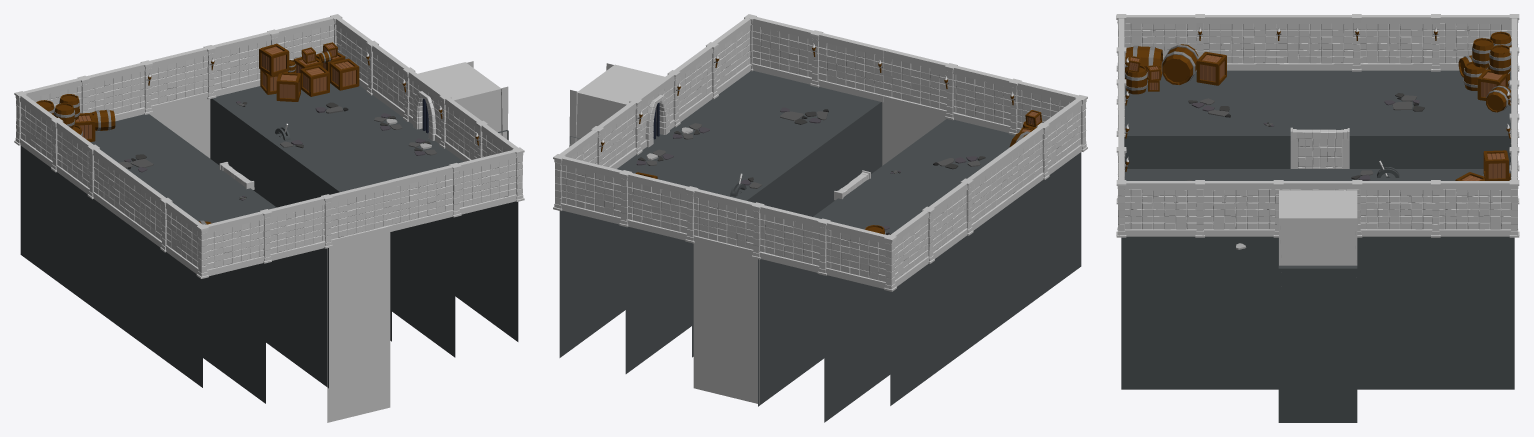
The model's file is Level.fbx.
The picture shows the model from 3 angles, left to right: view 1: azimuth 30°, elevation 25°; view 2: azimuth 150°, elevation 25°; view 3: azimuth 270°, elevation 25°; orthographic projection. The views are drawn at different scales.
Parts seen in each view (by area): view 1: Wall A.006, Floor, Floor.016, Floor.001, Floor.004, Floor.017, Floor.012, Floor.005, Floor.002, Floor.003, Floor.015, Floor.020 (+32 smaller); view 2: Wall A.006, Floor.020, Floor.003, Floor.007, Floor.021, Floor.024, Floor.023, Floor.002, Floor.001, Floor.013, Floor, Floor.012 (+28 smaller); view 3: Floor.026, Floor.016, Floor.019, Floor.024, Floor.017, Wall A.006, Floor.005, Floor.007, Floor.004, Wall A.005, Wall A.014, Wall A.016 (+31 smaller).
Boxes of the visible parts, left/top/right/bottom form: Wall A.006: left=149, top=61, right=508, bottom=422; Floor: left=166, top=252, right=265, bottom=403; Floor.016: left=419, top=201, right=518, bottom=341; Floor.001: left=130, top=208, right=229, bottom=376; Floor.004: left=231, top=248, right=328, bottom=388; Floor.017: left=382, top=147, right=481, bottom=315; Floor.012: left=390, top=217, right=455, bottom=357; Floor.005: left=193, top=192, right=292, bottom=361; Floor.002: left=93, top=181, right=192, bottom=334; Floor.003: left=57, top=154, right=155, bottom=307; Floor.015: left=246, top=108, right=345, bottom=207; Floor.020: left=20, top=136, right=119, bottom=280; Wall A.006: left=569, top=48, right=957, bottom=404; Floor.020: left=824, top=264, right=928, bottom=422; Floor.003: left=862, top=217, right=966, bottom=394; Floor.007: left=796, top=201, right=900, bottom=378; Floor.021: left=758, top=259, right=862, bottom=406; Floor.024: left=559, top=210, right=656, bottom=357; Floor.023: left=625, top=227, right=693, bottom=373; Floor.002: left=901, top=189, right=1004, bottom=349; Floor.001: left=939, top=162, right=1043, bottom=321; Floor.013: left=740, top=113, right=844, bottom=216; Floor: left=978, top=135, right=1081, bottom=293; Floor.012: left=779, top=86, right=882, bottom=185; Floor.026: left=1278, top=238, right=1357, bottom=422; Floor.016: left=1121, top=236, right=1199, bottom=389; Floor.019: left=1357, top=236, right=1435, bottom=389; Floor.024: left=1436, top=236, right=1514, bottom=389; Floor.017: left=1200, top=236, right=1278, bottom=389; Wall A.006: left=1116, top=79, right=1357, bottom=265; Floor.005: left=1200, top=102, right=1278, bottom=168; Floor.007: left=1357, top=102, right=1435, bottom=168; Floor.004: left=1124, top=102, right=1199, bottom=168; Wall A.005: left=1276, top=14, right=1361, bottom=71; Wall A.014: left=1360, top=14, right=1440, bottom=71; Wall A.016: left=1439, top=180, right=1519, bottom=237.
Bounding box in the file's own units: 2430 × 1379 × 2051.
